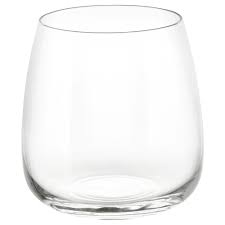glass: (19, 3, 207, 219)
